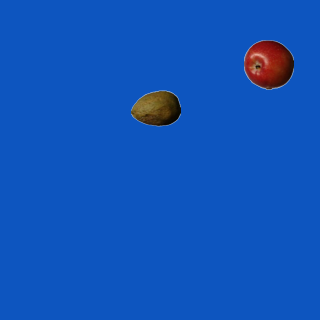Apple Braeburn: (243, 39, 293, 89)
Papaya: (130, 83, 180, 133)
